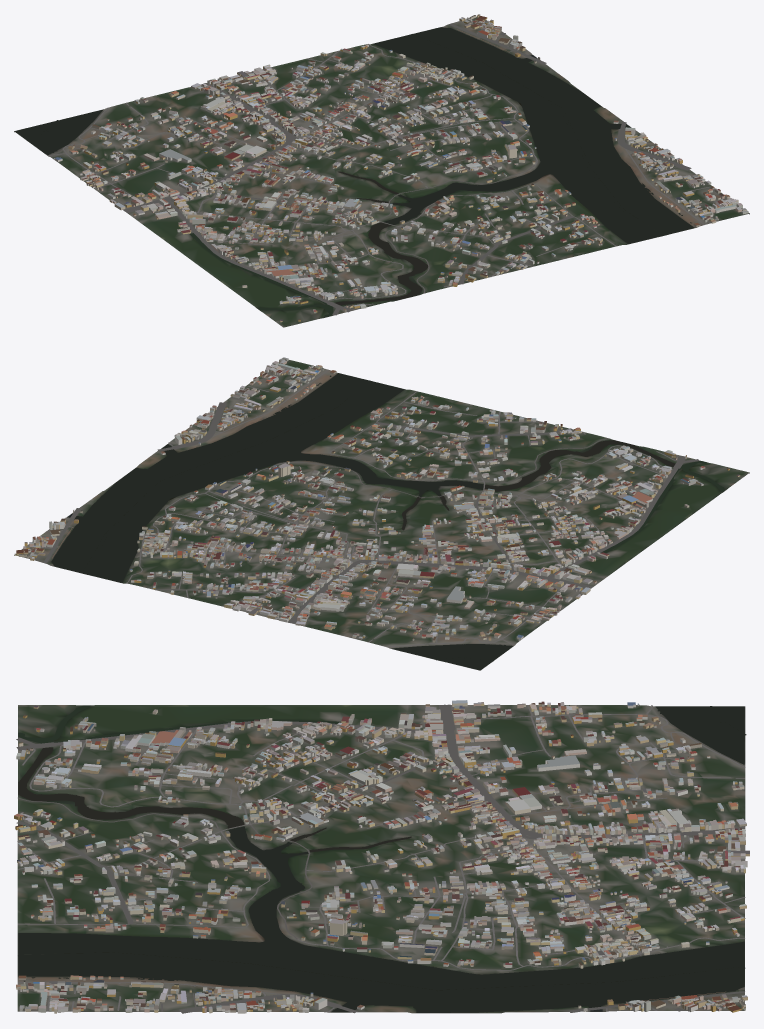
The picture shows the model from 3 angles, top to bottom: view 1: azimuth 30°, elevation 25°; view 2: azimuth 150°, elevation 25°; view 3: azimuth 270°, elevation 25°; orthographic projection. The views are drawn at different scales.
Parts seen in each view (by area): view 1: ground, buildings, water, roads; view 2: ground, buildings, water, roads; view 3: ground, buildings, water, roads.
Boxes of the visible parts, x1,y1,x2,y2 form: ground: [14, 16, 749, 327]; buildings: [53, 14, 748, 322]; water: [15, 27, 694, 317]; roads: [48, 23, 725, 315]; ground: [14, 360, 749, 670]; buildings: [14, 357, 740, 642]; water: [51, 373, 724, 669]; roads: [30, 369, 699, 647]; ground: [17, 705, 745, 1013]; buildings: [14, 700, 749, 1013]; water: [17, 705, 746, 1012]; roads: [16, 704, 745, 1013].
Bounding box in the file's own units: 1415 × 31.47 × 1417.
